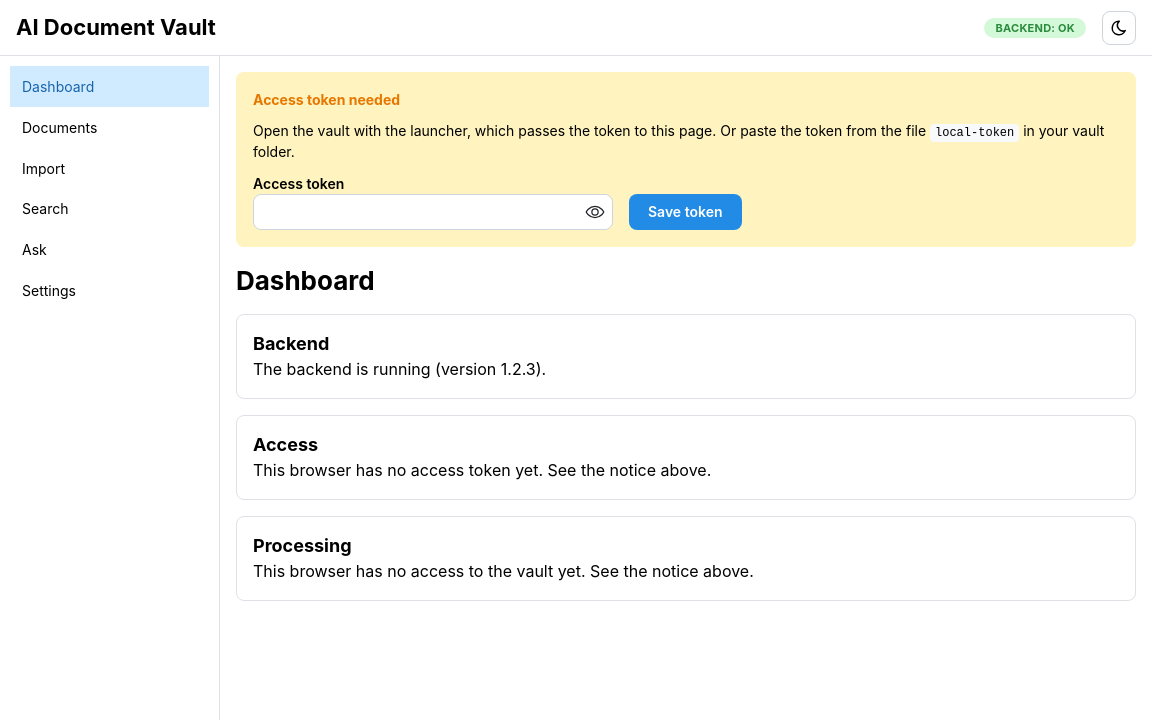
it: access token › refuses text that is not a token without saving or asking the backend
Type "hello" into the password field labelled "Access token" at [433, 212], box [254,195,612,229]
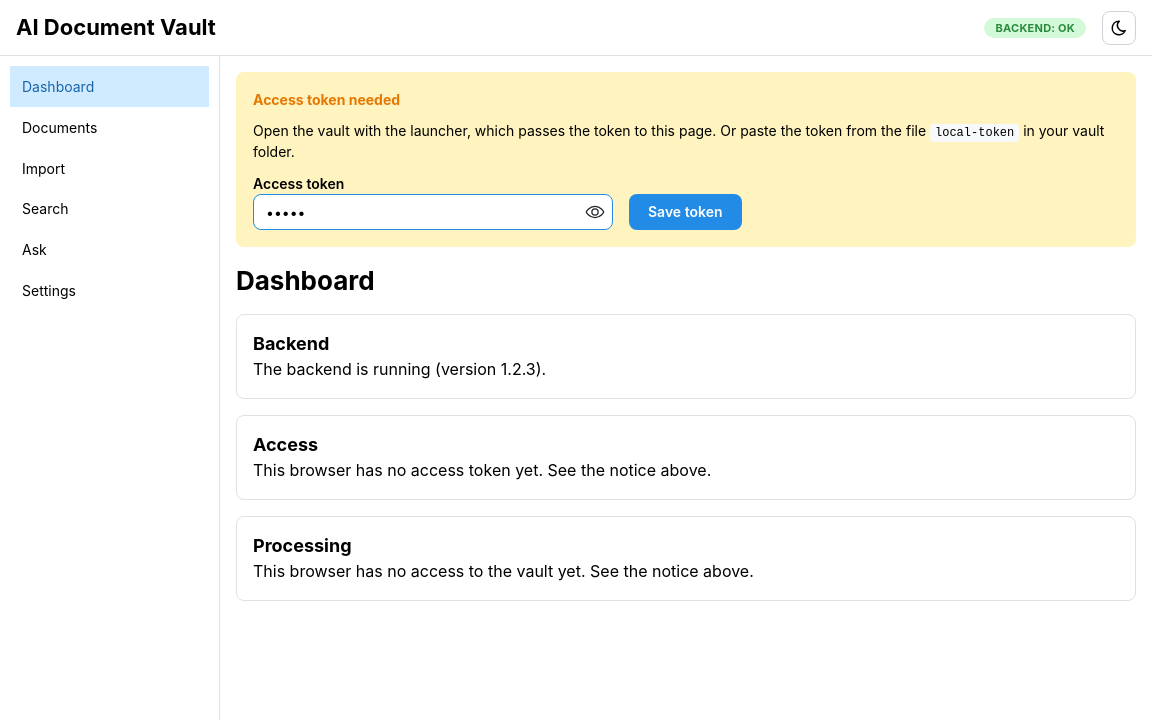
Click the button "Save token" at [685, 212], box [629,194,742,230]
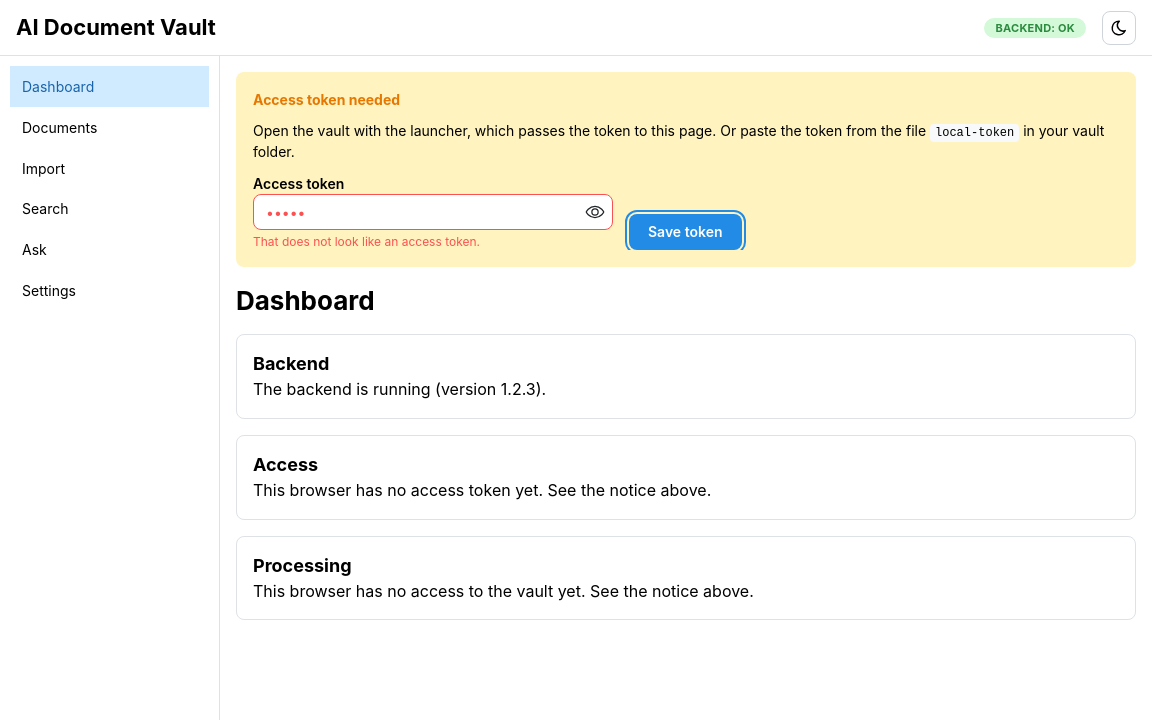
expect the text "That does not look like an access token." is shown: met, box [253,234,480,249]
